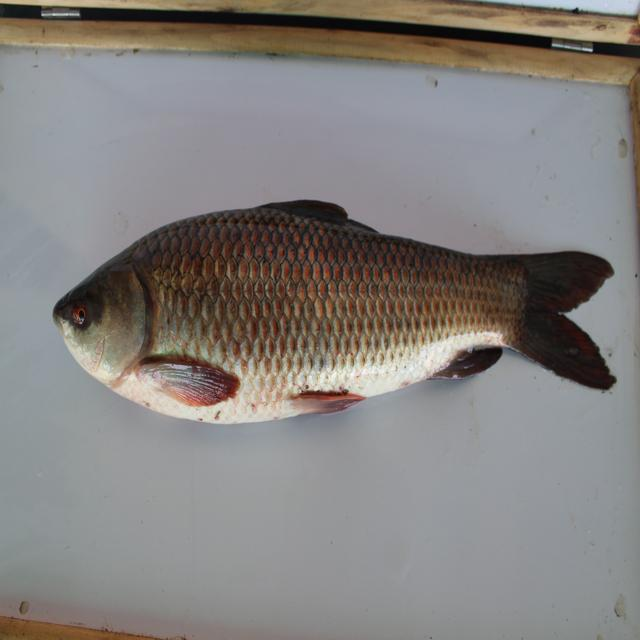Rohu: (62, 194, 618, 458)
